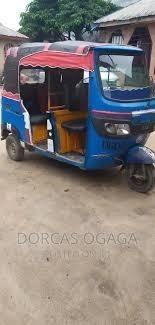keke: (1, 46, 154, 194)
